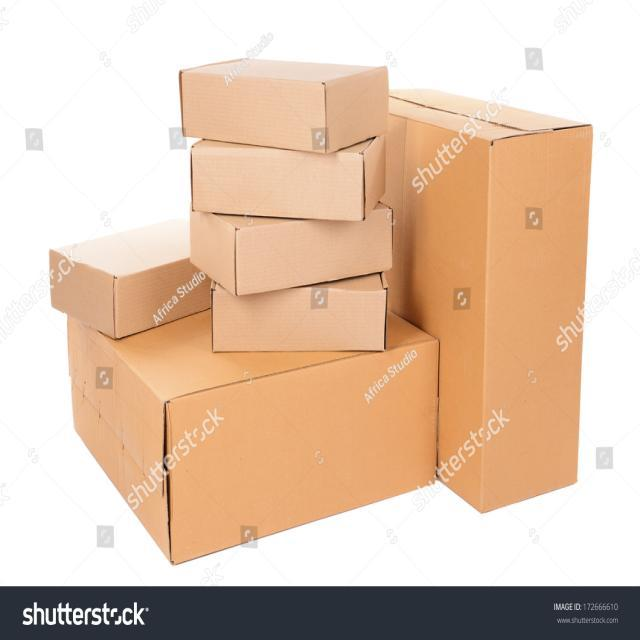BoxFace: (167, 340, 439, 564), (477, 126, 592, 511), (238, 209, 393, 296), (193, 144, 367, 218), (182, 70, 326, 154), (214, 290, 385, 354), (50, 246, 115, 334)
